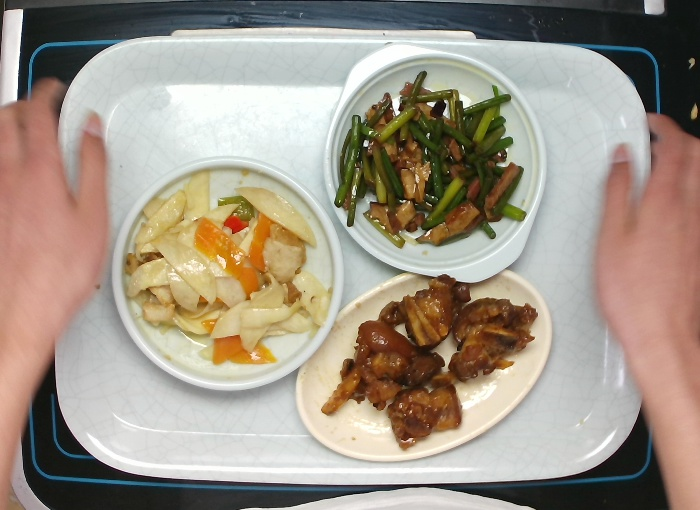JYsf-Shuang_Er_Pan: (320, 37, 552, 287)
JYsf-Tuo_Yuan_Wan: (291, 262, 559, 464)
JYsf-Xiao_Yuan_Pan: (110, 153, 349, 398)
